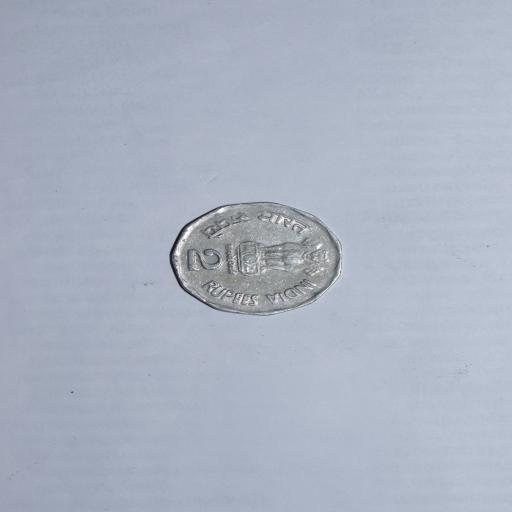rupee2: (168, 202, 345, 315)
